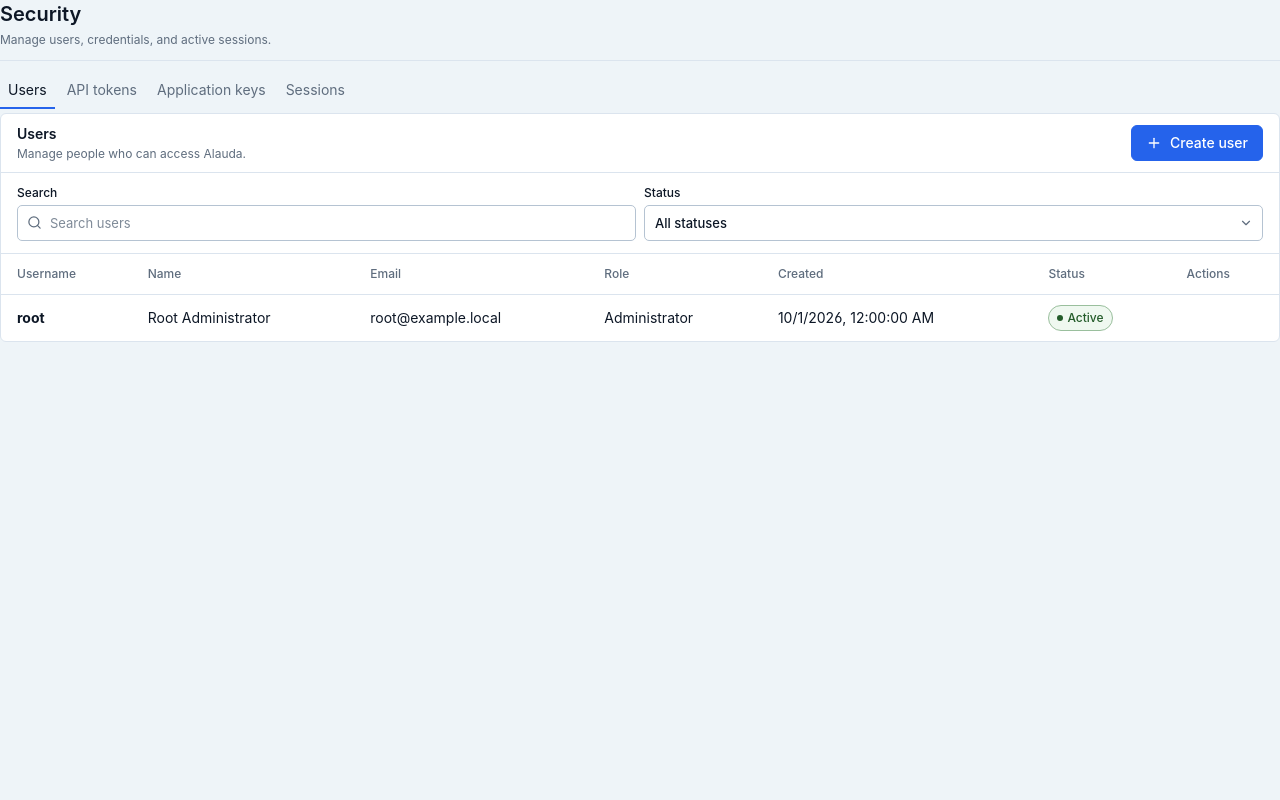
Test case: Security workspace › creates users in a shared dialog and keeps password out of the list
expect the table named "Users" is shown: met, box [1, 254, 1279, 340]
Click the button "Create user". click: (1197, 143)
box: [1131, 125, 1263, 161]
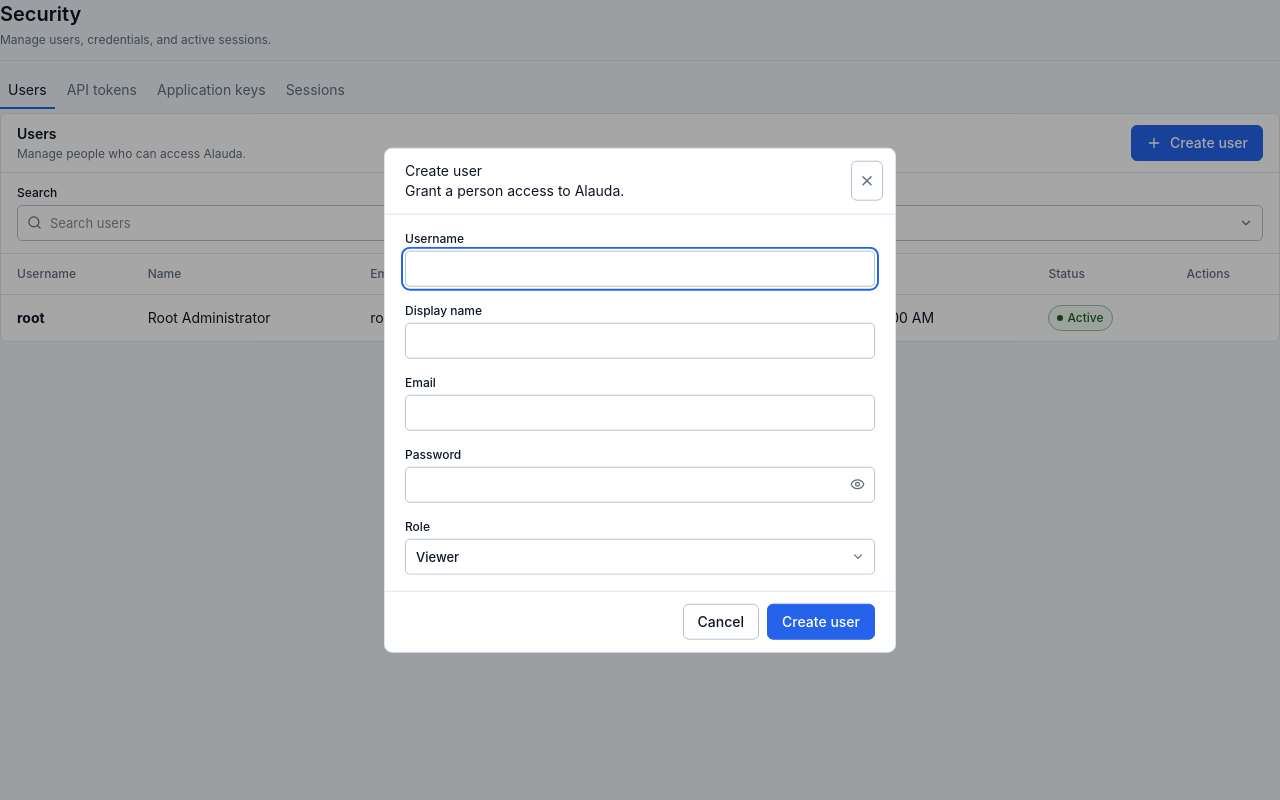
Type "operator" into the field labelled "Username". click: (640, 268)
box: [405, 250, 875, 286]
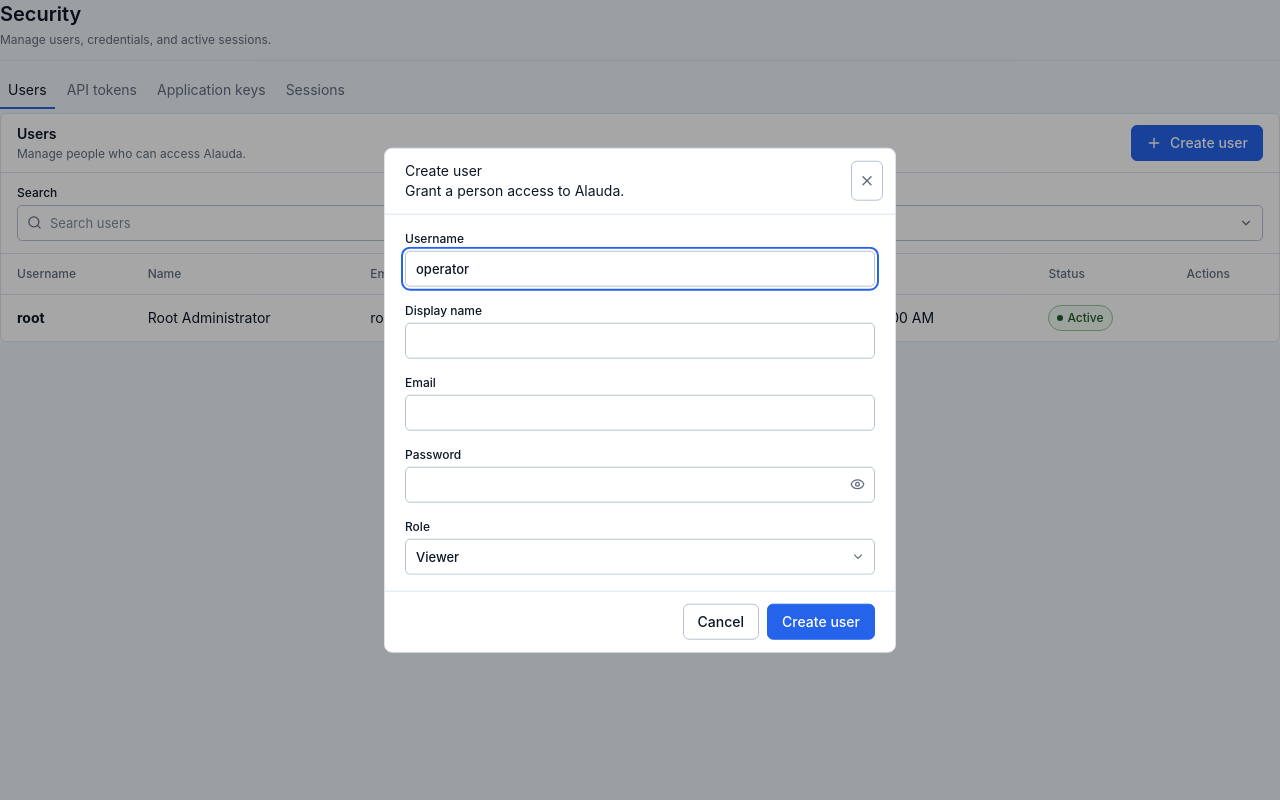
Type "Operator" into the field labelled "Display name". click: (640, 340)
box: [405, 322, 875, 358]
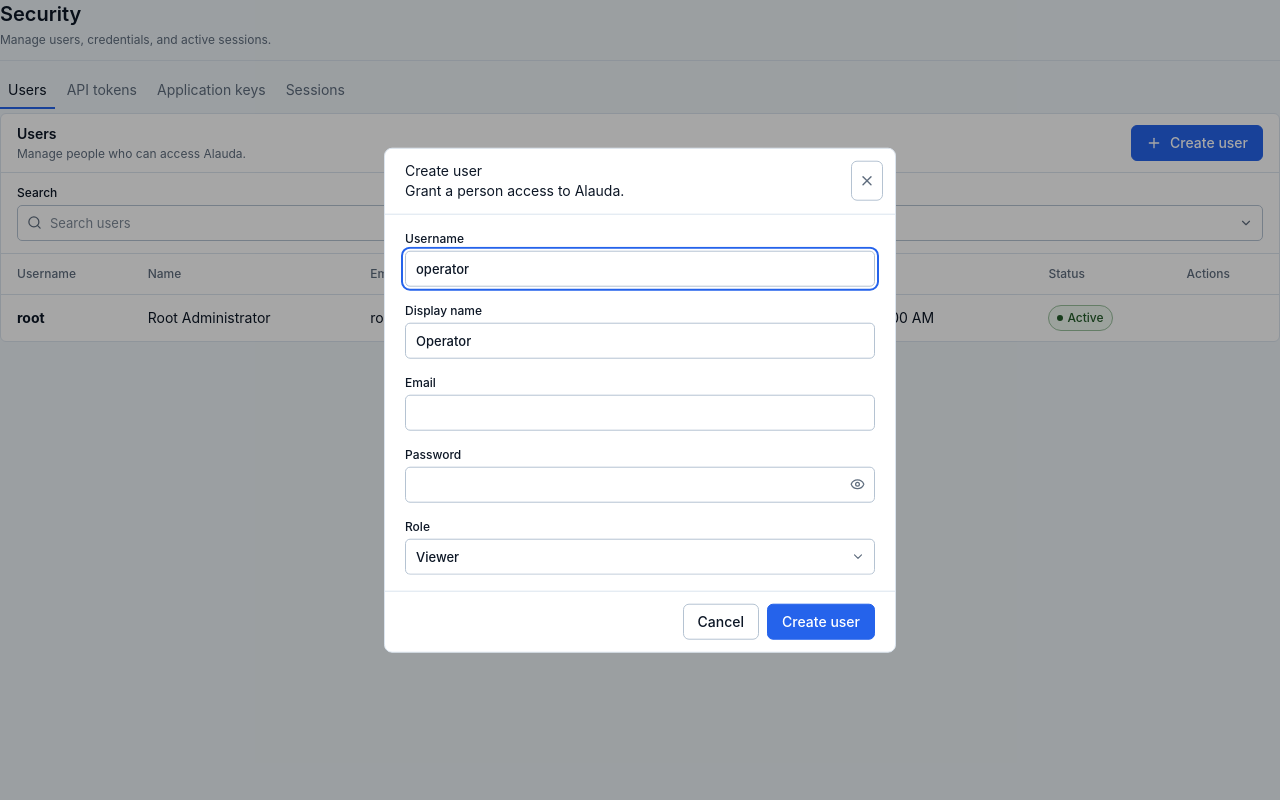
Type "operator@example.local" into the field labelled "Email". click: (640, 412)
box: [405, 394, 875, 430]
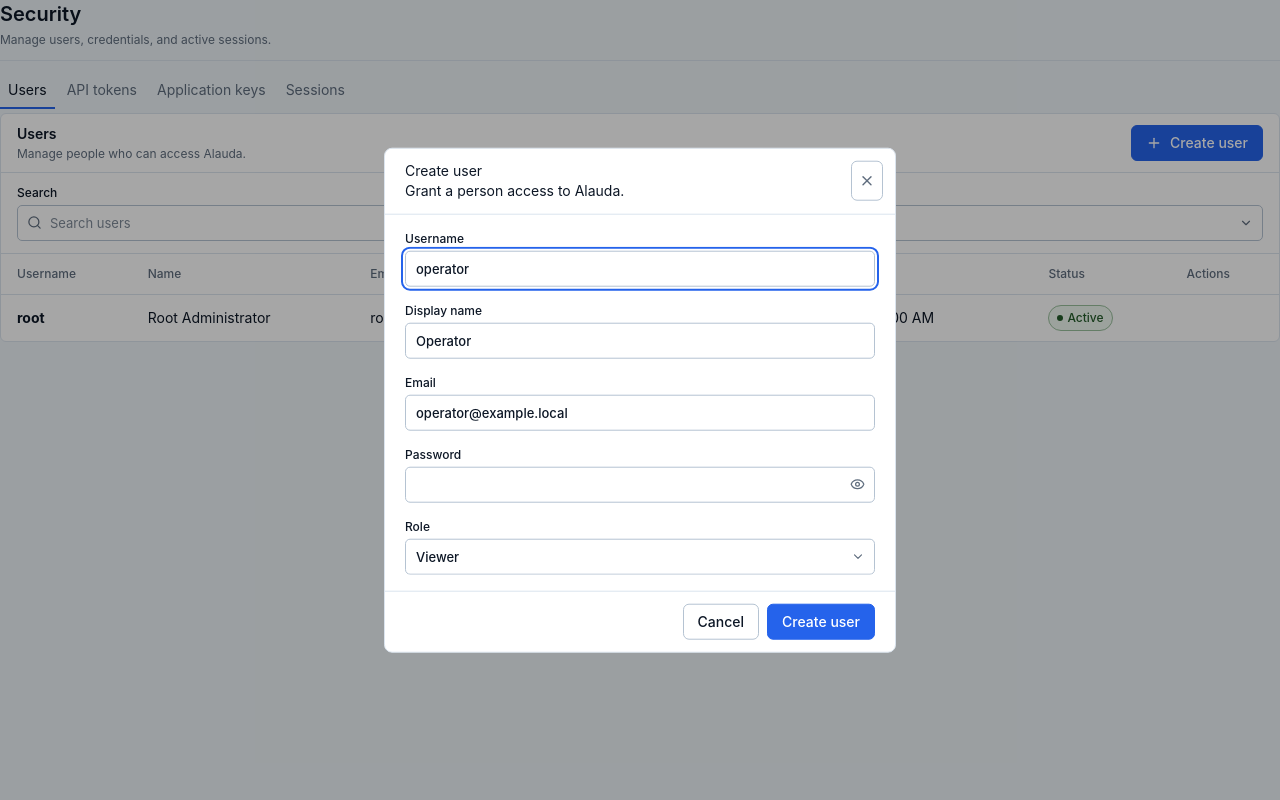
Type "private-password" into the password field labelled "Password". click: (640, 484)
box: [405, 466, 875, 502]
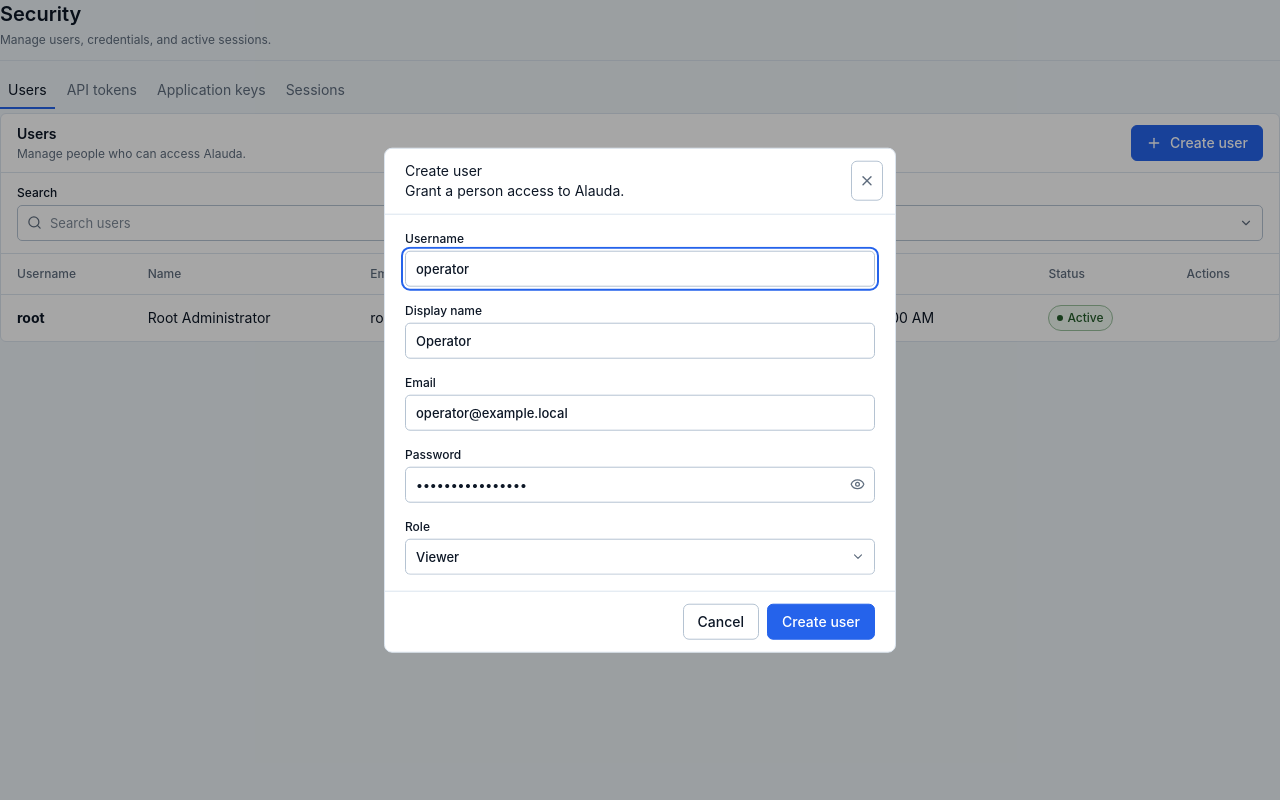
Click the button "Create user". click: (821, 621)
box: [767, 603, 875, 639]
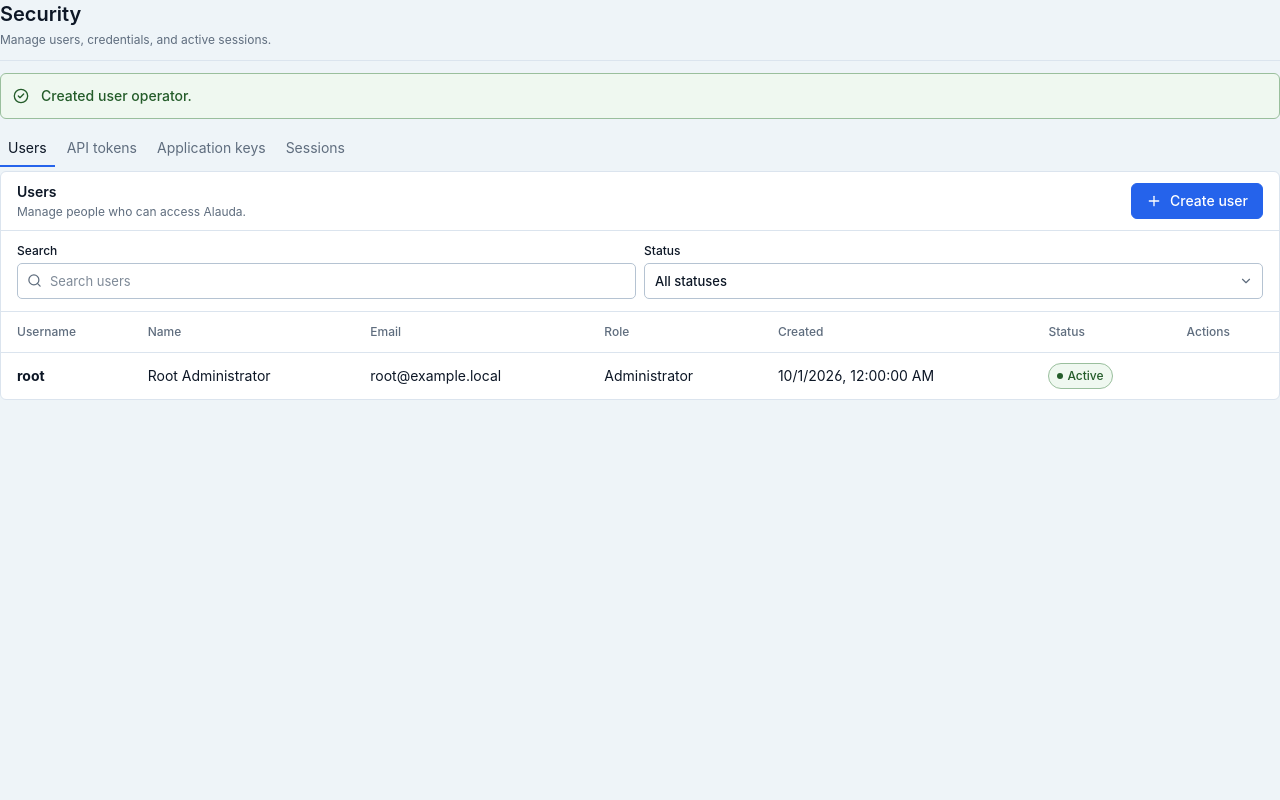
expect the dialog is gone: met
